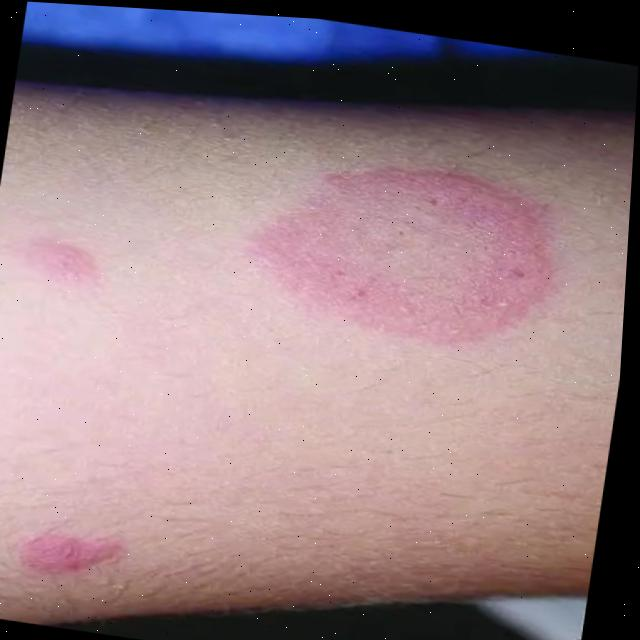Rosacea: (266, 146, 555, 358), (15, 523, 120, 591), (32, 231, 117, 279)
